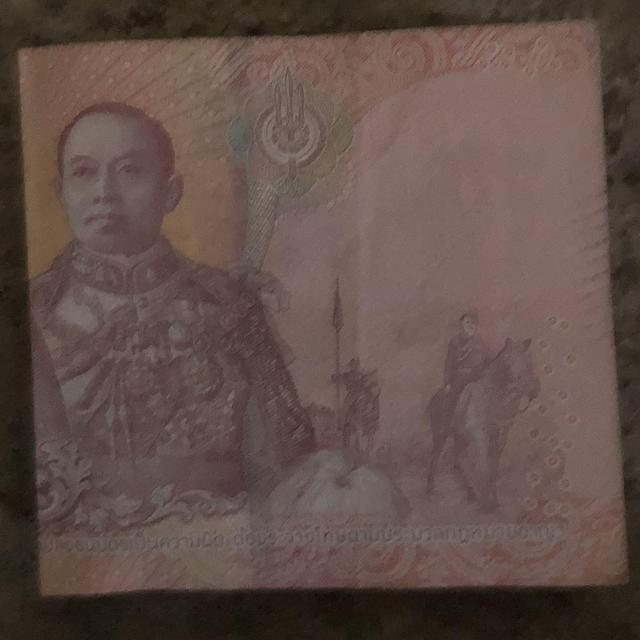THAI100: (19, 22, 626, 595)
